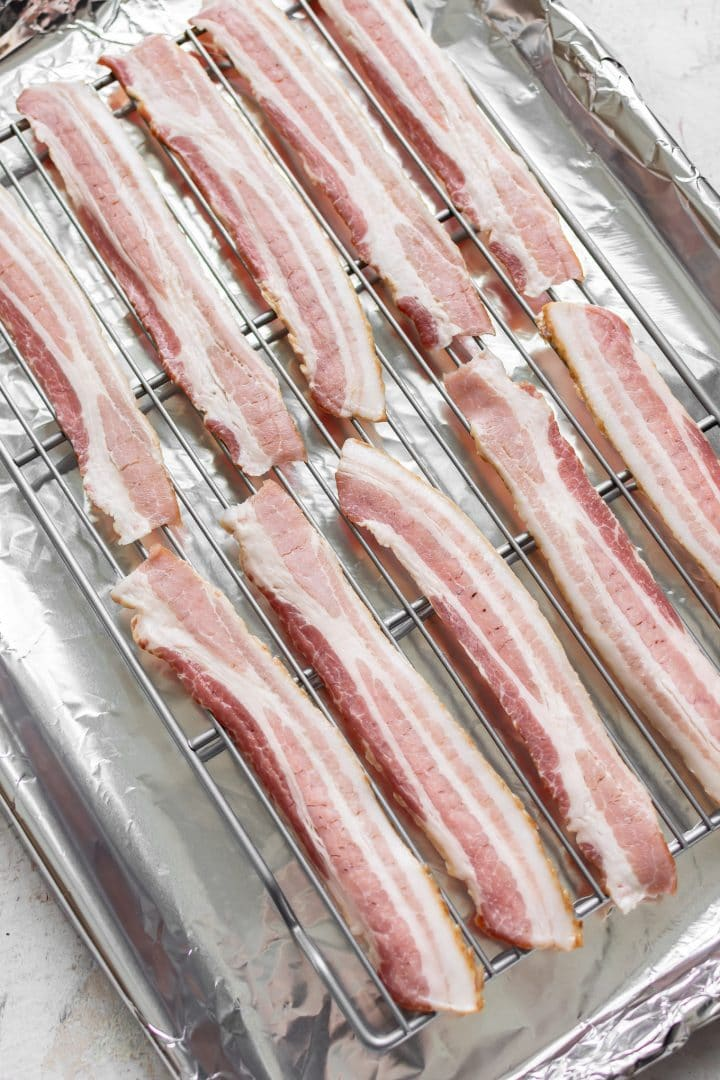bacon: (278, 461, 668, 836), (25, 83, 259, 492)
